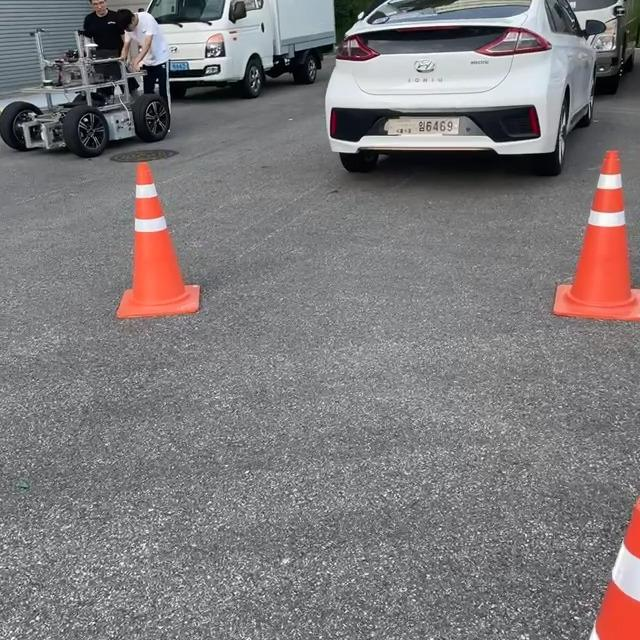fallen_object: (108, 176, 245, 340), (549, 155, 640, 375), (566, 443, 640, 640)
